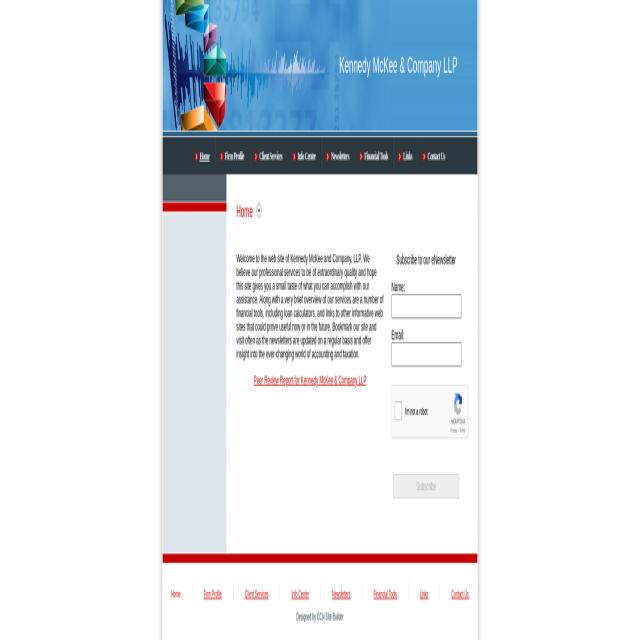button: (393, 474, 459, 498), (354, 137, 392, 172), (417, 138, 454, 172), (288, 139, 319, 173), (321, 140, 353, 172), (215, 142, 249, 172), (250, 142, 286, 170), (393, 138, 417, 171), (191, 144, 214, 172), (256, 202, 262, 218)
field: (392, 294, 462, 319), (392, 342, 462, 367), (395, 401, 402, 421)
